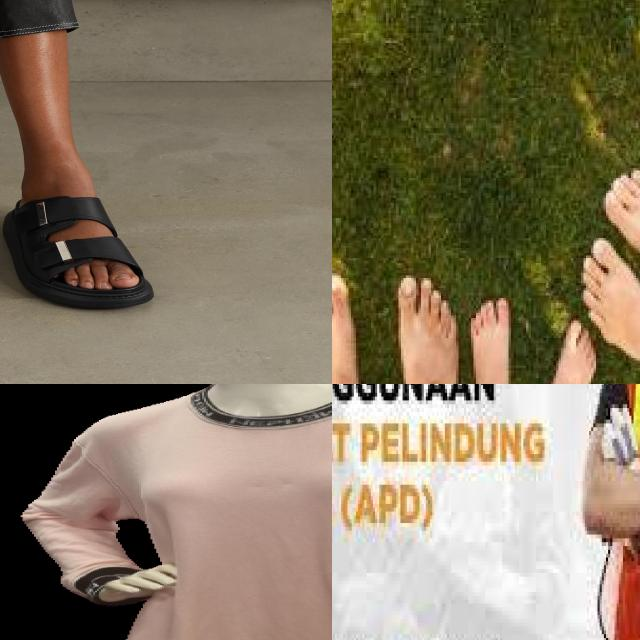Barefoots: (578, 224, 640, 377), (392, 270, 464, 384), (464, 286, 522, 384), (332, 277, 373, 384), (548, 318, 607, 384)
Sandals: (0, 171, 157, 310)
